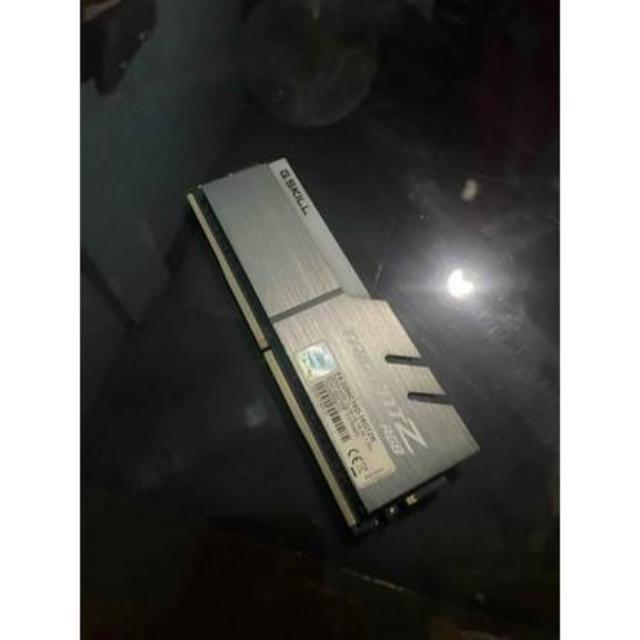RAM: (179, 154, 492, 543)
